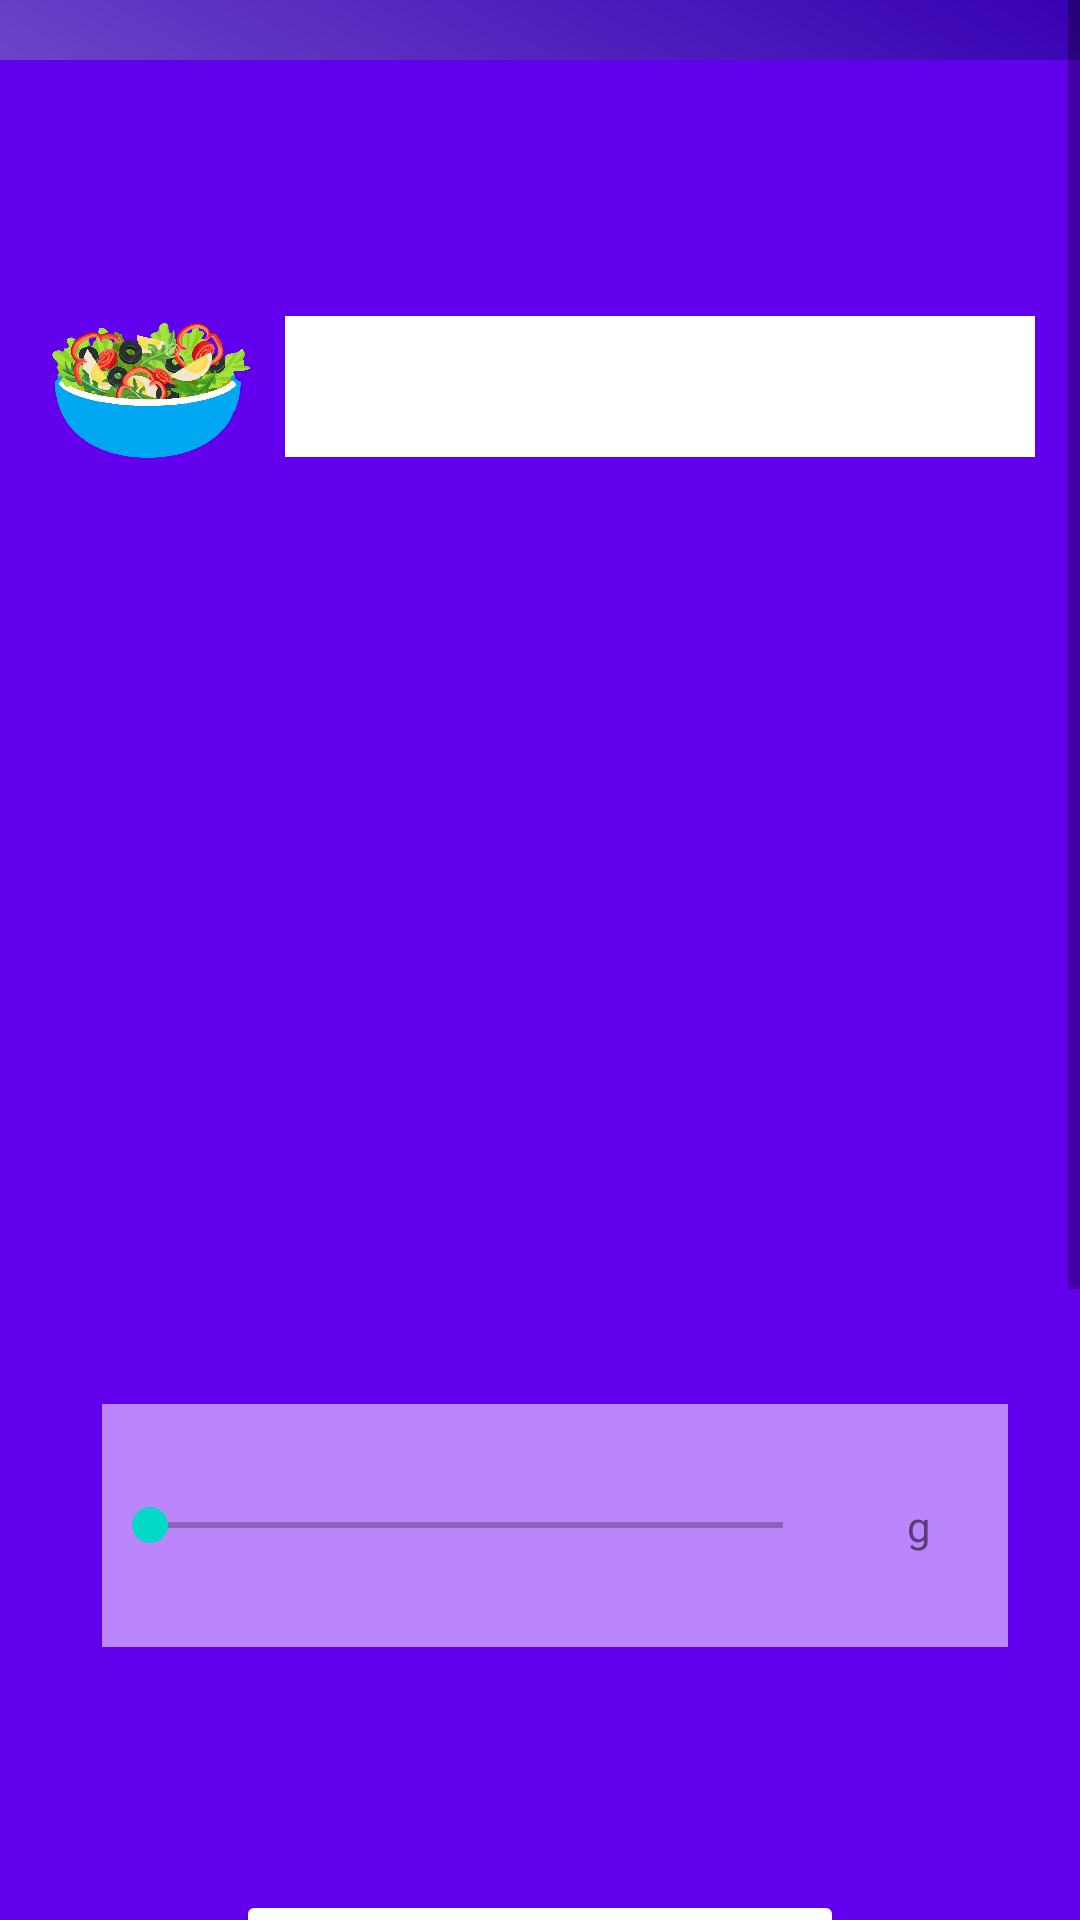

Icon bounding boxes for this 1080w x 1920h phone screenshot, format bbox=[x1, y1, x2, y2]:
vegetables: bbox=[52, 323, 250, 458]
